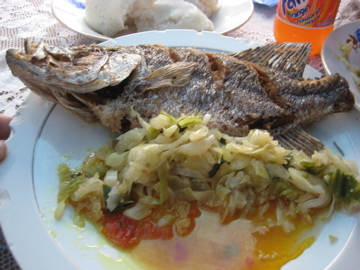fish: (4, 37, 355, 158)
